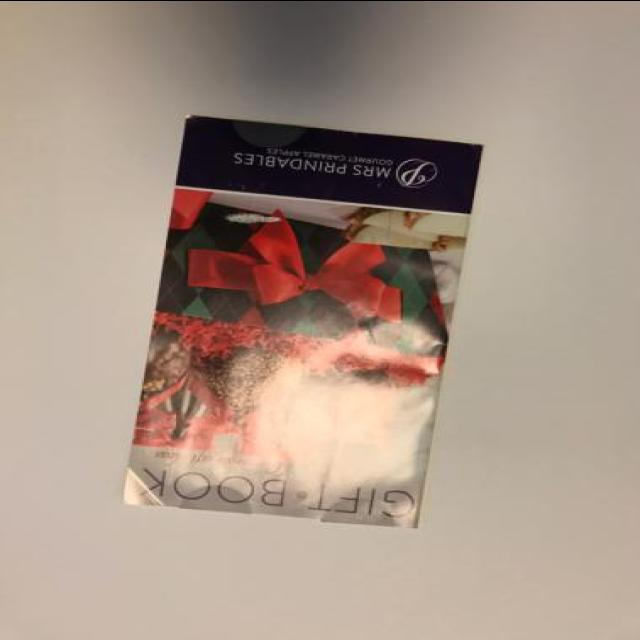kertas: (123, 112, 486, 528)
